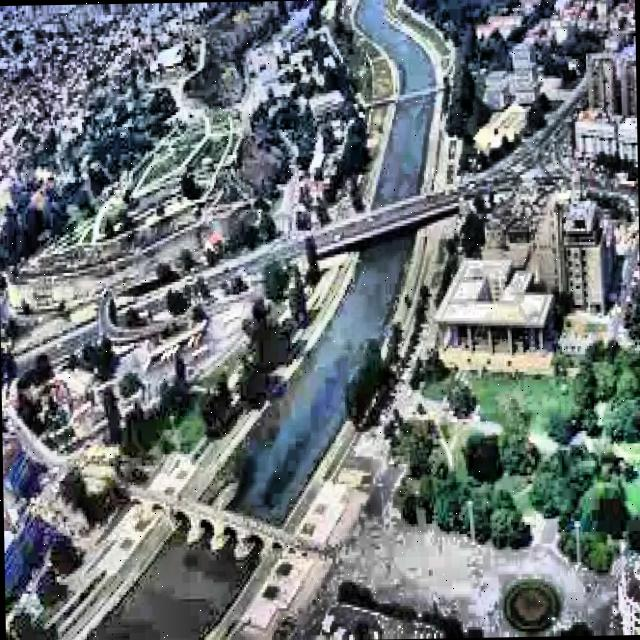stone bridge: (154, 484, 312, 570)
